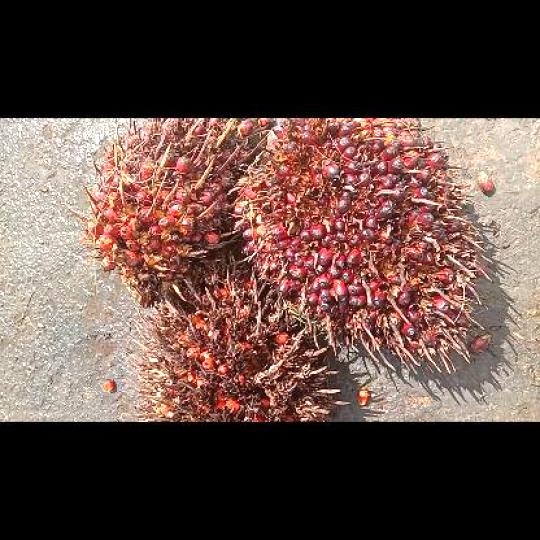masak: (235, 118, 492, 373), (68, 118, 259, 306)
terlalu masak: (121, 270, 346, 422)
